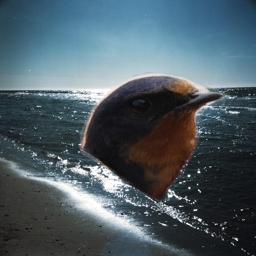Swallow: (80, 72, 229, 201)
